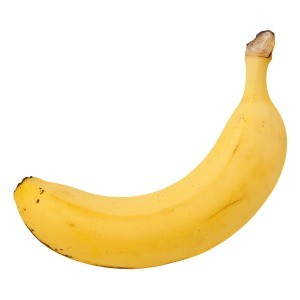banana_brain food: (98, 194, 186, 270)
